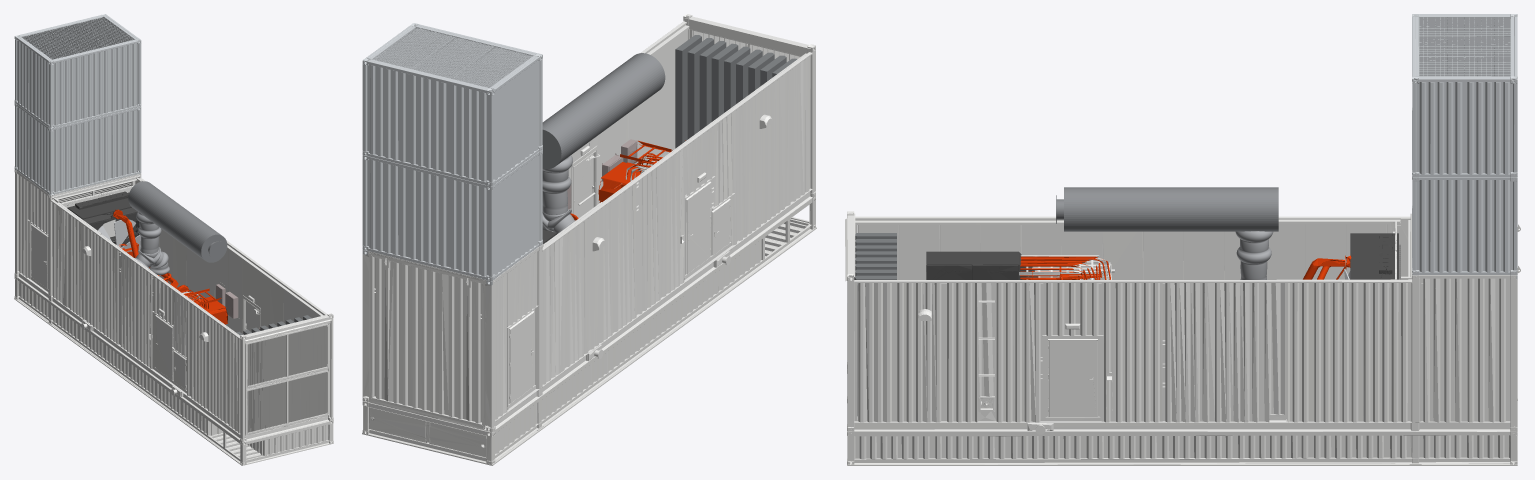
Rendered from boxis-modelo.glb.
The picture shows the model from 3 angles, left to right: view 1: azimuth 30°, elevation 25°; view 2: azimuth 150°, elevation 25°; view 3: azimuth 270°, elevation 25°; orthographic projection. The views are drawn at different scales.
Parts seen in each view (by area): view 1: carc_p00003_d5.12_nestructura-container, carc_p06790_d6.18_nestructura-container, carc_p06785_d5.46_nestructura-container, acc_p02927_d5.51_nsilenciador-escape, carc_p06789_d4.50_nestructura-container, acc_p00073_d4.12_ntorre-extraccion, acc_p04442_d3.43_ntorre-extraccion, acc_p04441_d3.43_ntorre-extraccion, acc_p00985_d2.77_ntorre-extraccion, acc_p00983_d2.77_ntorre-extraccion, acc_p01718_d2.77_ntorre-extraccion, acc_p01716_d2.77_ntorre-extraccion (+51 smaller); view 2: carc_p02178_d5.09_nestructura-container, carc_p06790_d6.18_nestructura-container, carc_p06785_d5.46_nestructura-container, carc_p06789_d4.50_nestructura-container, acc_p02927_d5.51_nsilenciador-escape, acc_p00073_d4.12_ntorre-extraccion, acc_p04441_d3.43_ntorre-extraccion, acc_p04442_d3.43_ntorre-extraccion, acc_p00984_d2.77_ntorre-extraccion, acc_p00982_d2.77_ntorre-extraccion, acc_p02204_d2.77_ntorre-extraccion, acc_p01717_d2.77_ntorre-extraccion (+56 smaller); view 3: carc_p06782_d7.18_nestructura-container, carc_p06779_d4.50_nestructura-container, carc_p06781_d4.47_nestructura-container, carc_p06783_d4.37_nestructura-container, acc_p02927_d5.51_nsilenciador-escape, acc_p04440_d3.43_ntorre-extraccion, acc_p04439_d3.43_ntorre-extraccion, carc_p02841_d4.07_nestructura-container, carc_p06493_d13.80_nestructura-container, acc_p00073_d4.12_ntorre-extraccion, carc_p06738_d4.86_nestructura-container, base_p04458_d16.15_nestructura-belly-tank (+30 smaller).
Part boxes in pixels (left/top/right/bottom): carc_p00003_d5.12_nestructura-container: left=245, top=323, right=328, bottom=436; carc_p06790_d6.18_nestructura-container: left=53, top=203, right=118, bottom=344; carc_p06785_d5.46_nestructura-container: left=173, top=292, right=227, bottom=423; acc_p02927_d5.51_nsilenciador-escape: left=128, top=181, right=227, bottom=262; carc_p06789_d4.50_nestructura-container: left=120, top=252, right=152, bottom=369; acc_p00073_d4.12_ntorre-extraccion: left=21, top=17, right=134, bottom=59; acc_p04442_d3.43_ntorre-extraccion: left=17, top=40, right=49, bottom=124; acc_p04441_d3.43_ntorre-extraccion: left=17, top=107, right=49, bottom=191; acc_p00985_d2.77_ntorre-extraccion: left=81, top=50, right=109, bottom=118; acc_p00983_d2.77_ntorre-extraccion: left=81, top=116, right=109, bottom=185; acc_p01718_d2.77_ntorre-extraccion: left=109, top=43, right=137, bottom=111; acc_p01716_d2.77_ntorre-extraccion: left=109, top=110, right=137, bottom=178; carc_p02178_d5.09_nestructura-container: left=376, top=257, right=480, bottom=423; carc_p06790_d6.18_nestructura-container: left=542, top=183, right=636, bottom=384; carc_p06785_d5.46_nestructura-container: left=713, top=70, right=790, bottom=245; carc_p06789_d4.50_nestructura-container: left=638, top=148, right=684, bottom=314; acc_p02927_d5.51_nsilenciador-escape: left=542, top=53, right=665, bottom=168; acc_p00073_d4.12_ntorre-extraccion: left=372, top=27, right=533, bottom=87; acc_p04441_d3.43_ntorre-extraccion: left=493, top=155, right=538, bottom=275; acc_p04442_d3.43_ntorre-extraccion: left=493, top=61, right=538, bottom=180; acc_p00984_d2.77_ntorre-extraccion: left=408, top=74, right=448, bottom=171; acc_p00982_d2.77_ntorre-extraccion: left=408, top=169, right=448, bottom=266; acc_p02204_d2.77_ntorre-extraccion: left=448, top=179, right=488, bottom=276; acc_p01717_d2.77_ntorre-extraccion: left=368, top=64, right=407, bottom=162; carc_p06782_d7.18_nestructura-container: left=1165, top=283, right=1407, bottom=422; carc_p06779_d4.50_nestructura-container: left=947, top=283, right=1040, bottom=422; carc_p06781_d4.47_nestructura-container: left=1423, top=278, right=1505, bottom=422; carc_p06783_d4.37_nestructura-container: left=858, top=283, right=941, bottom=422; acc_p02927_d5.51_nsilenciador-escape: left=1064, top=187, right=1278, bottom=231; acc_p04440_d3.43_ntorre-extraccion: left=1417, top=82, right=1511, bottom=174; acc_p04439_d3.43_ntorre-extraccion: left=1417, top=180, right=1511, bottom=272; carc_p02841_d4.07_nestructura-container: left=1101, top=283, right=1162, bottom=422; carc_p06493_d13.80_nestructura-container: left=854, top=421, right=1415, bottom=431; acc_p00073_d4.12_ntorre-extraccion: left=1419, top=17, right=1510, bottom=76; carc_p06738_d4.86_nestructura-container: left=1021, top=225, right=1143, bottom=279; base_p04458_d16.15_nestructura-belly-tank: left=854, top=457, right=1510, bottom=464.
Size of the model in its own units: 4.15 by 10.5 by 16.63.
